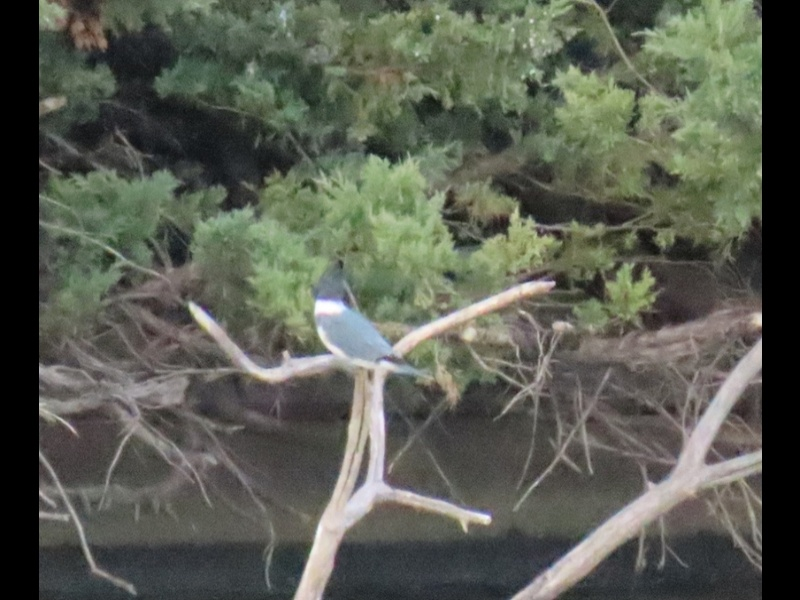kingfisher: (310, 254, 434, 389)
